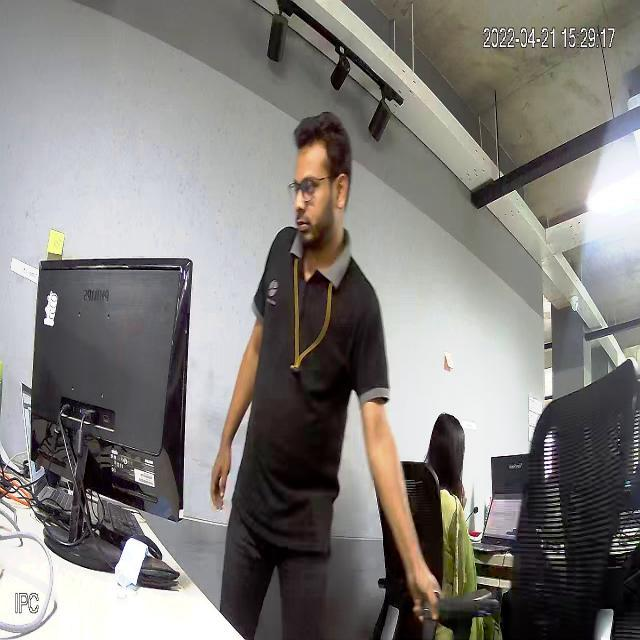Knife: (408, 582, 435, 638)
